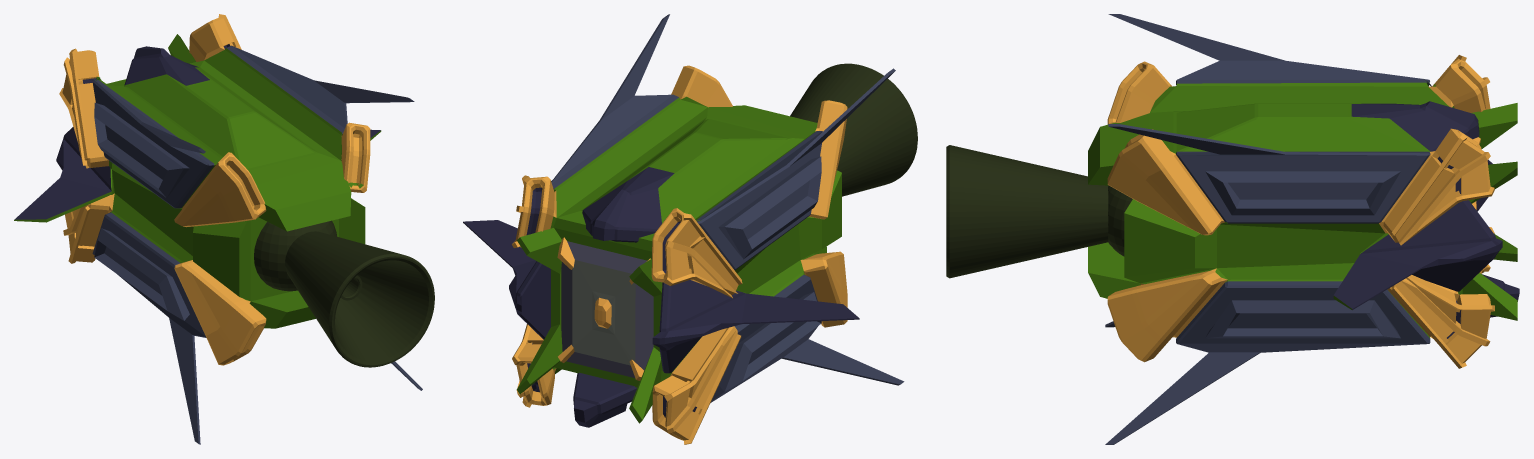
The model's file is missilebox 2.fbx.
3 renders of one model, left to right at view 1: azimuth 30°, elevation 25°; view 2: azimuth 150°, elevation 25°; view 3: azimuth 270°, elevation 25°, orthographic. The views are drawn at different scales.
Parts seen in each view (by area): view 1: 円柱.001, 球; view 2: 円柱.001, 立方体, 球; view 3: 円柱.001, 球.
Boxes of the visible parts, x1,y1,x2,y2 form: 円柱.001: (14, 14, 422, 444); 球: (254, 220, 434, 367); 円柱.001: (463, 14, 904, 444); 立方体: (557, 237, 653, 380); 球: (790, 63, 917, 196); 円柱.001: (1088, 14, 1519, 444); 球: (946, 145, 1132, 278).
Size of the model in its own units: 530 by 400 by 656.
